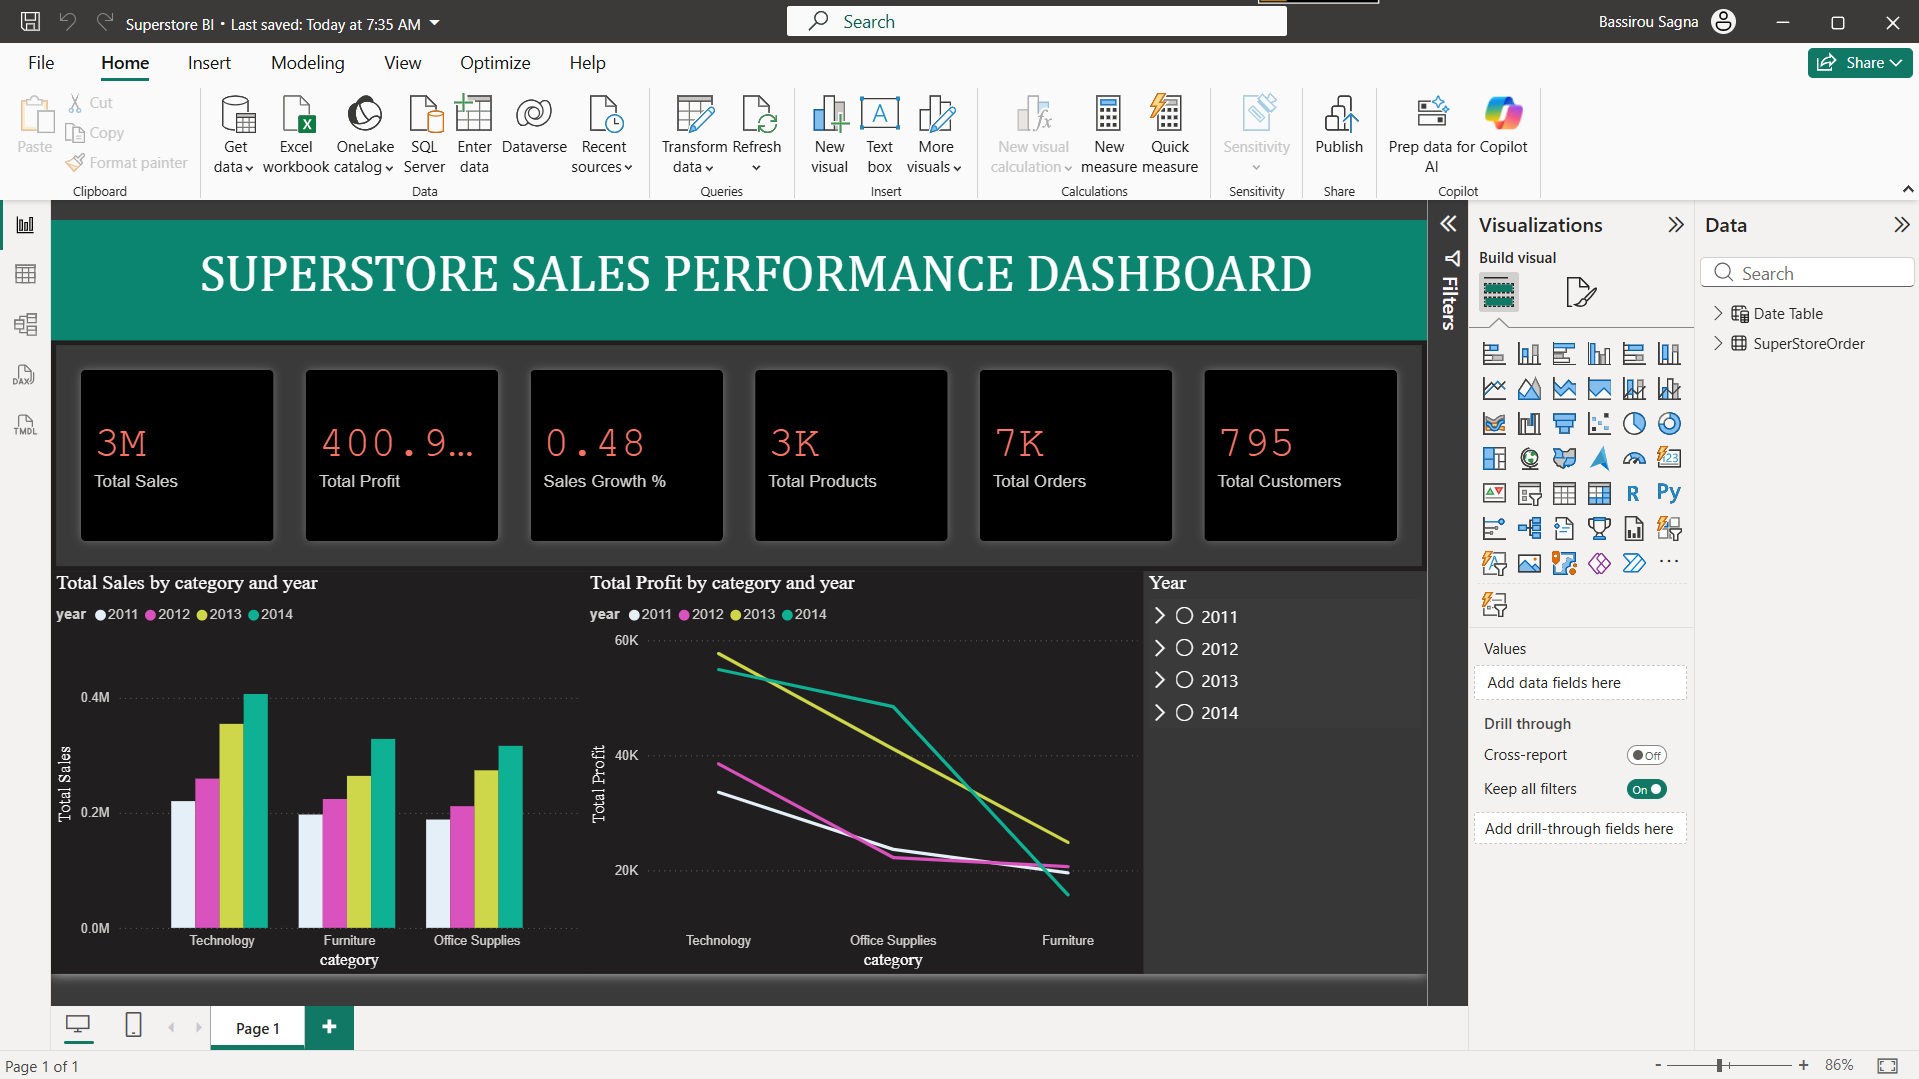

This screenshot's page, from the dashboard's own definition file:
{"tool":"powerbi","page":{"name":"Page 1","canvas":[1280,720],"ordinal":0},"visuals":[{"type":"clusteredColumnChart","fields":{"Category":["SuperStoreOrder.category"],"Y":["SuperStoreOrder.Total Sales"],"Series":["SuperStoreOrder.year"]},"box":[0,345.7,496.4,374.3],"z":0},{"type":"lineChart","fields":{"Category":["SuperStoreOrder.category"],"Y":["SuperStoreOrder.Total Profit"],"Series":["SuperStoreOrder.year"]},"box":[496.4,345.7,519.8,374.3],"z":1000},{"type":"cardVisual","fields":{"Data":["SuperStoreOrder.Total Sales","SuperStoreOrder.Total Profit","SuperStoreOrder.Sales Growth %","SuperStoreOrder.Total Product","SuperStoreOrder.Total Orders","SuperStoreOrder.Total Customers"]},"box":[0,130,1280.3,215.4],"z":2000},{"type":"listSlicer","fields":{"Values":["Date Table.Year","Date Table.Month"]},"box":[1016.5,345.4,263.7,373.9],"z":3000},{"type":"textbox","box":[0,18.2,1280,111.8],"z":4000}]}

Visuals, with their boxes on the page's 1280x720 design canvas (x1, y1, x2, y2). These are canvas units, not pixel positions in the 1919x1079 screenshot, which may show the page scaled, cropped or inside an application window:
clusteredColumnChart - SuperStoreOrder.category x SuperStoreOrder.Total Sales: (0,346,496,720)
lineChart - SuperStoreOrder.category x SuperStoreOrder.Total Profit: (496,346,1016,720)
cardVisual - SuperStoreOrder.Total Sales x SuperStoreOrder.Total Profit: (0,130,1280,345)
listSlicer - Date Table.Year x Date Table.Month: (1016,345,1280,719)
textbox: (0,18,1280,130)
